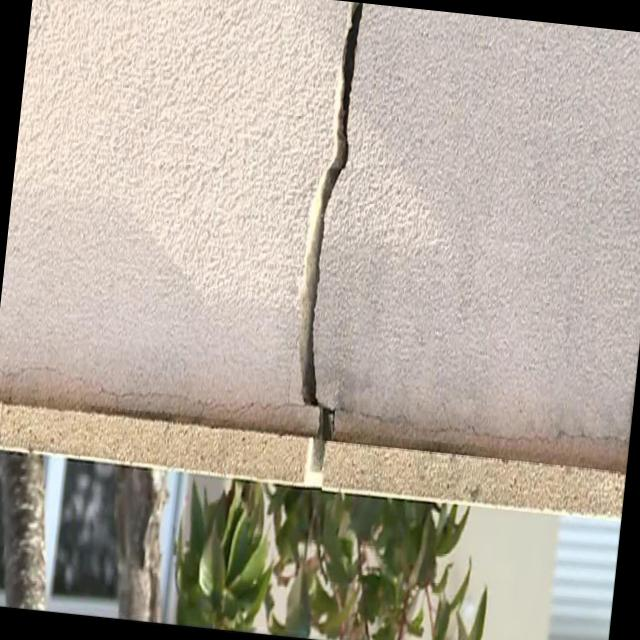crack: (297, 4, 362, 489)
